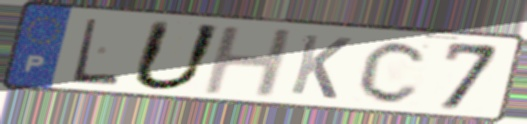7: (440, 39, 502, 113)
C: (355, 38, 433, 105)
H: (199, 25, 298, 98)
K: (286, 31, 355, 102)
L: (69, 16, 123, 88)
U: (126, 17, 227, 93)
